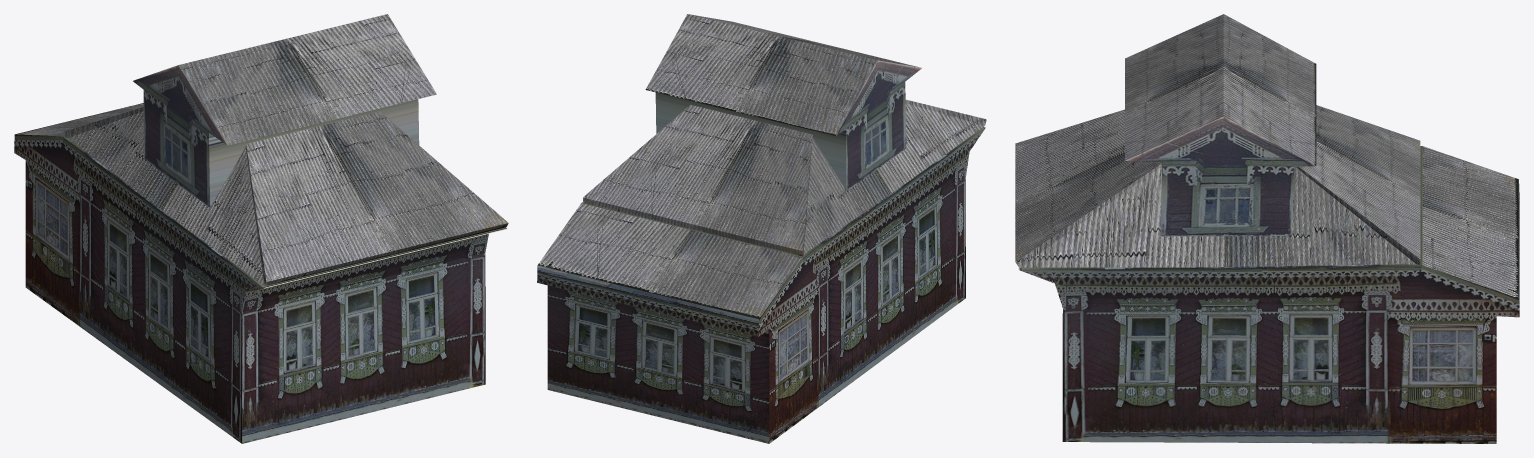
Rendered from ru_village_hut_5.obj.
3 views of the same model, side by side, from view 1: azimuth 30°, elevation 25°; view 2: azimuth 150°, elevation 25°; view 3: azimuth 270°, elevation 25° (orthographic). The views are drawn at different scales.
Visible parts, largest first — view 1: ru_village_hut_5; view 2: ru_village_hut_5; view 3: ru_village_hut_5.
Boxes of the visible parts, box(x1,y1,x2,y2) form: ru_village_hut_5: box(14, 14, 508, 443); ru_village_hut_5: box(537, 14, 986, 443); ru_village_hut_5: box(1015, 14, 1519, 443).
Size of the model in its own units: 5.91 by 7.36 by 10.56.
Materials: 2 (2 with a texture image).
